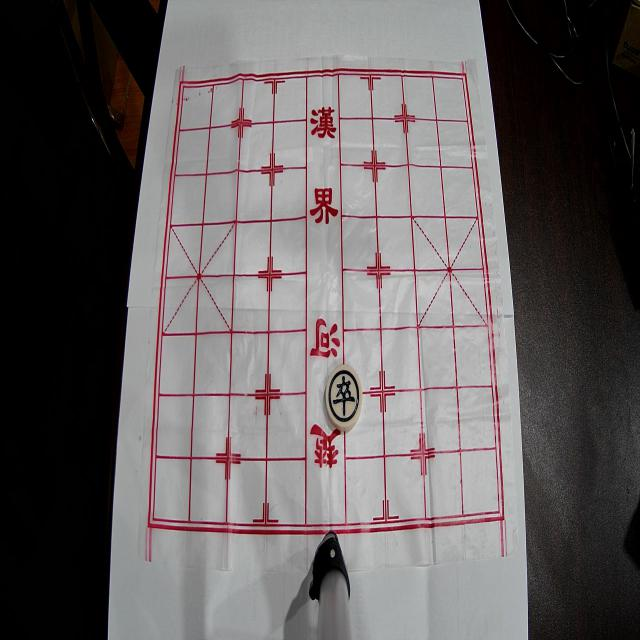black-soldier: (326, 365, 362, 430)
